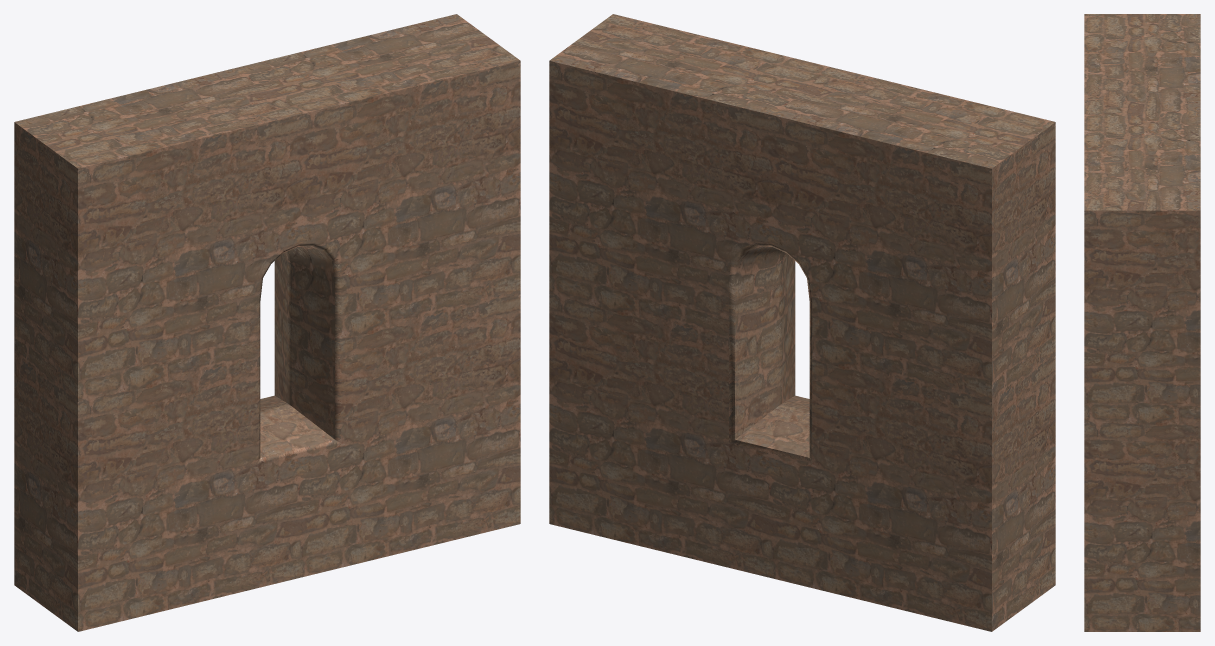
Rendered from Wall_SmallWindow.fbx.
3 views of the same model, side by side, from view 1: azimuth 30°, elevation 25°; view 2: azimuth 150°, elevation 25°; view 3: azimuth 270°, elevation 25° (orthographic). The views are drawn at different scales.
Parts seen in each view (by area): view 1: Wall_SmallWindow_LOD0; view 2: Wall_SmallWindow_LOD0; view 3: Wall_SmallWindow_LOD0.
Part boxes in pixels (x1=…): Wall_SmallWindow_LOD0: x1=14, y1=14, x2=520, y2=631; Wall_SmallWindow_LOD0: x1=549, y1=14, x2=1055, y2=631; Wall_SmallWindow_LOD0: x1=1084, y1=14, x2=1200, y2=631.
Size of what is drawn, in the model's own units: 400 by 400 by 100.
